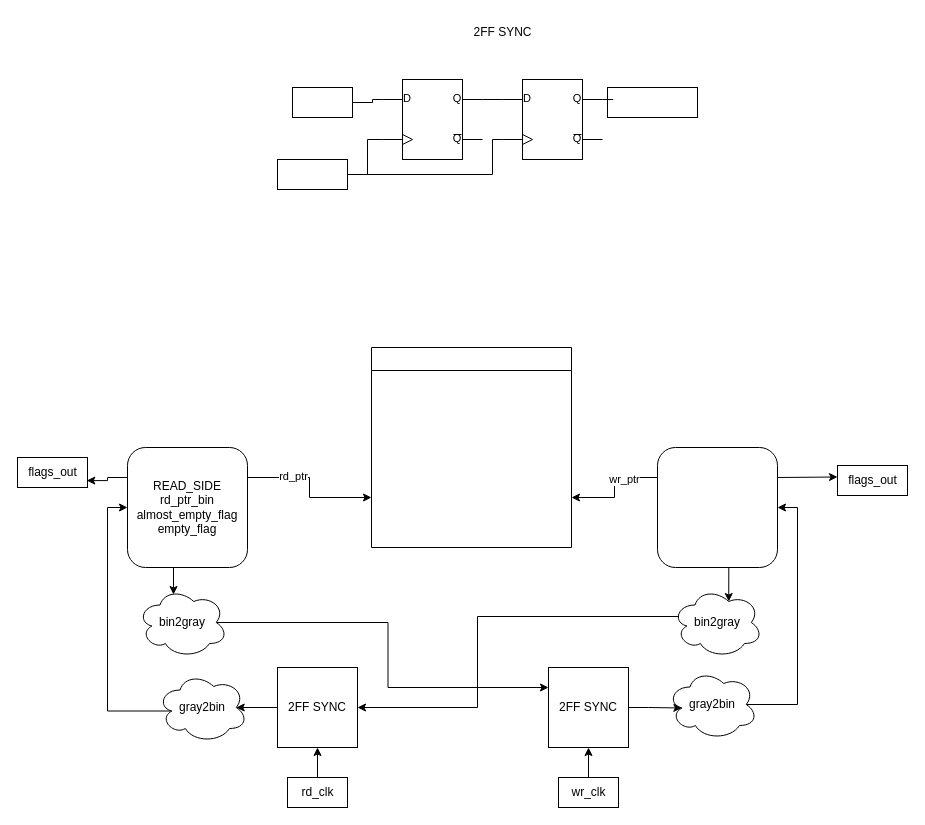
Some shapes in this 925 by 825 pixel diagram are drawn without their labels. The centre of each missing label's shape, as x and y in pixels:
data_in: the point at 322,102
data_in_sync: the point at 652,102
FIFO MEM: the point at 471,447
new_clk: the point at 312,174
WRITE_SIDE wr_ptr_bin almost_full_flag full_flag: the point at 717,507
